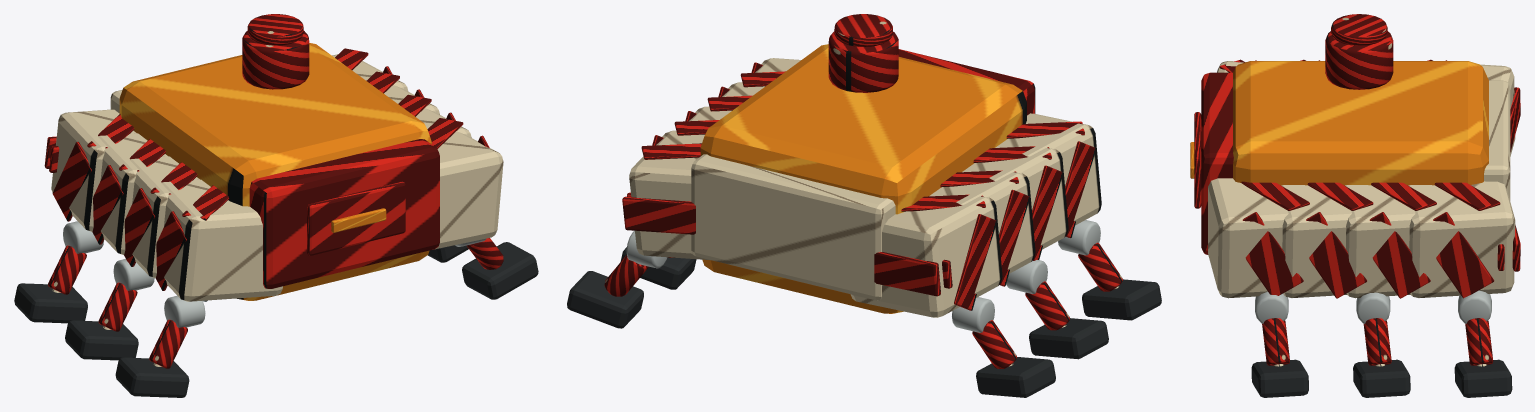
File: b01_reverse_crab_formal.glb
3 views of the same model, side by side, from view 1: azimuth 30°, elevation 25°; view 2: azimuth 150°, elevation 25°; view 3: azimuth 270°, elevation 25° (orthographic). The views are drawn at different scales.
Visible parts, largest first — view 1: Crab_Core, Crab_Rear_Plate, Barricade_L_1, Barricade_R_1, Crab_Sign_Inset, Barricade_L_4, Crab_Beacon, Barricade_L_3, Barricade_L_2, Leg_R_1_Foot, Leg_L_1_Foot, Leg_L_2_Foot (+19 smaller); view 2: Crab_Core, Crab_Front_Plate, Barricade_L_4, Barricade_R_4, Crab_Beacon, Barricade_L_1, Barricade_L_2, Barricade_L_3, Leg_R_3_Foot, Leg_L_1_Foot, Leg_L_3_Foot, Leg_L_2_Foot (+23 smaller); view 3: Crab_Core, Barricade_R_4, Barricade_R_1, Barricade_R_2, Barricade_R_3, Crab_Rear_Plate, Crab_Beacon, Crab_Front_Plate, Barricade_R_4_SideSafetyBand, Barricade_R_3_SideSafetyBand, Barricade_R_2_SideSafetyBand, Barricade_R_1_SideSafetyBand (+18 smaller).
Boxes of the visible parts, x1=… form: Crab_Core: x1=119, y1=43, x2=431, y2=300; Crab_Rear_Plate: x1=249, y1=139, x2=439, y2=288; Barricade_L_1: x1=161, y1=179, x2=282, y2=301; Barricade_R_1: x1=435, y1=131, x2=503, y2=249; Crab_Sign_Inset: x1=307, y1=181, x2=405, y2=255; Barricade_L_4: x1=51, y1=109, x2=136, y2=231; Crab_Beacon: x1=242, y1=30, x2=309, y2=89; Barricade_L_3: x1=98, y1=133, x2=167, y2=254; Barricade_L_2: x1=130, y1=156, x2=199, y2=278; Leg_R_1_Foot: x1=462, y1=242, x2=538, y2=299; Leg_L_1_Foot: x1=115, y1=357, x2=189, y2=397; Leg_L_2_Foot: x1=65, y1=320, x2=138, y2=360; Crab_Core: x1=700, y1=44, x2=1026, y2=313; Crab_Front_Plate: x1=691, y1=154, x2=895, y2=300; Barricade_L_4: x1=850, y1=196, x2=1002, y2=317; Barricade_R_4: x1=629, y1=130, x2=710, y2=260; Crab_Beacon: x1=828, y1=31, x2=898, y2=92; Barricade_L_1: x1=995, y1=113, x2=1101, y2=225; Barricade_L_2: x1=962, y1=148, x2=1068, y2=249; Barricade_L_3: x1=929, y1=172, x2=1035, y2=273; Leg_R_3_Foot: x1=567, y1=271, x2=643, y2=328; Leg_L_1_Foot: x1=1082, y1=279, x2=1161, y2=320; Leg_L_3_Foot: x1=976, y1=357, x2=1055, y2=397; Leg_L_2_Foot: x1=1029, y1=318, x2=1108, y2=359; Crab_Core: x1=1233, y1=61, x2=1488, y2=185; Barricade_R_4: x1=1408, y1=181, x2=1515, y2=297; Barricade_R_1: x1=1208, y1=178, x2=1288, y2=298; Barricade_R_2: x1=1281, y1=185, x2=1351, y2=297; Barricade_R_3: x1=1345, y1=185, x2=1415, y2=298; Crab_Rear_Plate: x1=1201, y1=72, x2=1233, y2=254; Crab_Beacon: x1=1325, y1=31, x2=1393, y2=89; Crab_Front_Plate: x1=1484, y1=80, x2=1510, y2=200; Barricade_R_4_SideSafetyBand: x1=1433, y1=212, x2=1494, y2=298; Barricade_R_3_SideSafetyBand: x1=1369, y1=212, x2=1430, y2=298; Barricade_R_2_SideSafetyBand: x1=1306, y1=212, x2=1366, y2=298; Barricade_R_1_SideSafetyBand: x1=1242, y1=212, x2=1303, y2=295.
Bounding box in the file's own units: 3.53 × 2.19 × 2.34.
8 materials, 5 textured.
